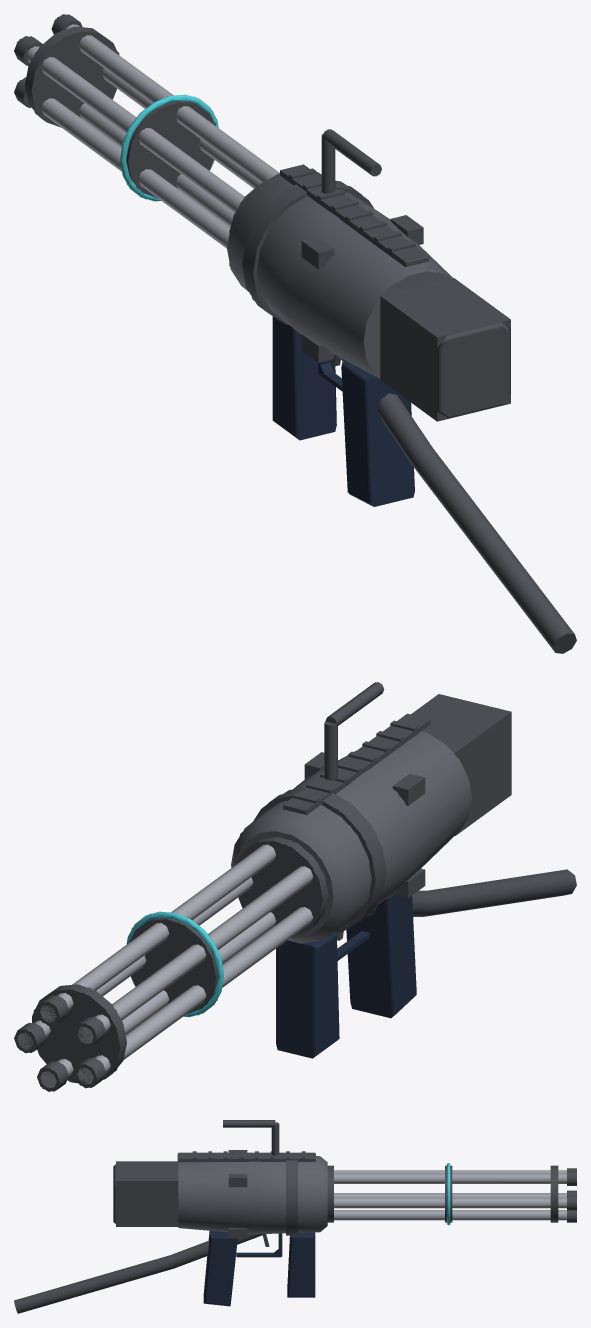
Rendered from r_tempest.glb.
The picture shows the model from 3 angles, top to bottom: view 1: azimuth 30°, elevation 25°; view 2: azimuth 150°, elevation 25°; view 3: azimuth 270°, elevation 25°; orthographic projection. The views are drawn at different scales.
Visible parts, largest first — view 1: L0, L1; view 2: L0, L1; view 3: L0, L1.
Part boxes in pixels (<box>): L0: <box>14,14,576,653</box>; L1: <box>19,14,510,421</box>; L0: <box>14,682,576,1091</box>; L1: <box>14,682,511,1091</box>; L0: <box>14,1120,576,1313</box>; L1: <box>116,1120,576,1257</box>.
Bounding box in the file's own units: 0.1333 × 0.342 × 0.9037.
